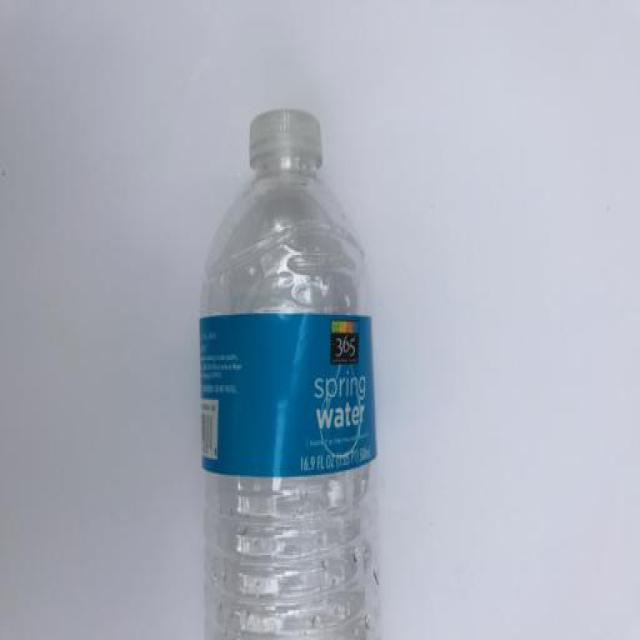Plastic: (199, 105, 381, 640)
